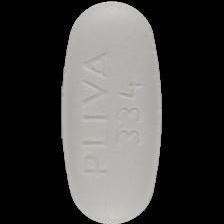0179-1482: (0, 0, 224, 224)
